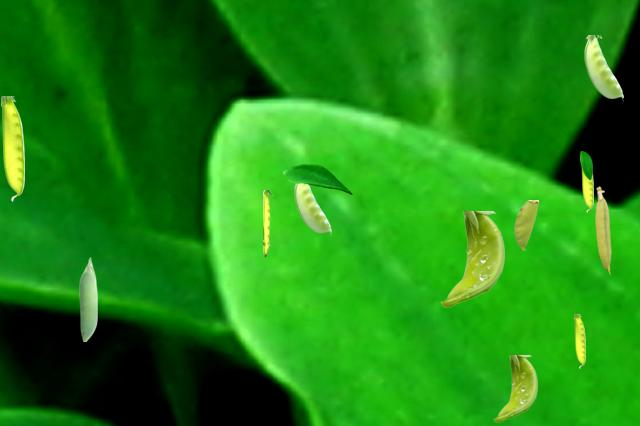pea: (440, 211, 503, 306), (493, 355, 536, 421), (584, 35, 622, 101), (1, 96, 23, 200), (294, 184, 330, 235), (79, 257, 96, 340), (595, 186, 610, 273), (514, 200, 537, 249), (263, 190, 272, 256), (574, 314, 584, 367), (581, 167, 592, 211)
